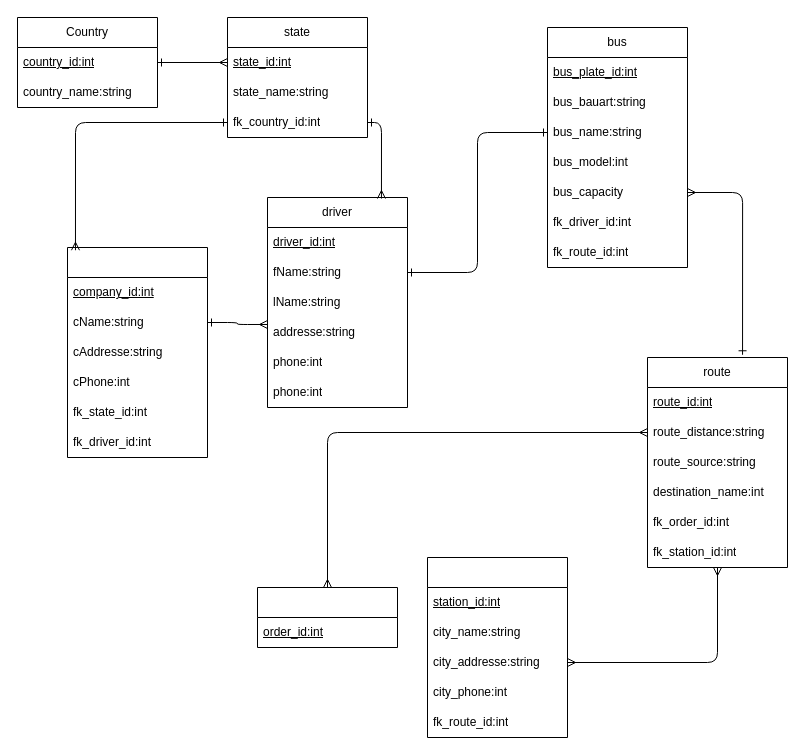
Image size: 805x755. Some labels were removed from this diagram. The shapes that lost their labels are listed below. From the top down, each one's box as (x1, y1, x2, y2) in pixels, then its label:
(66, 246, 208, 458): BusCompany
(256, 586, 398, 648): busStop
(426, 556, 568, 738): busStation
